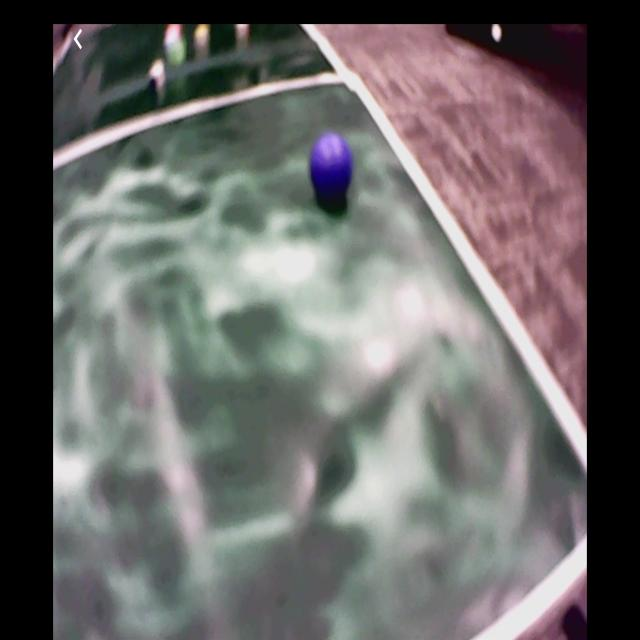ball: (309, 135, 355, 201)
